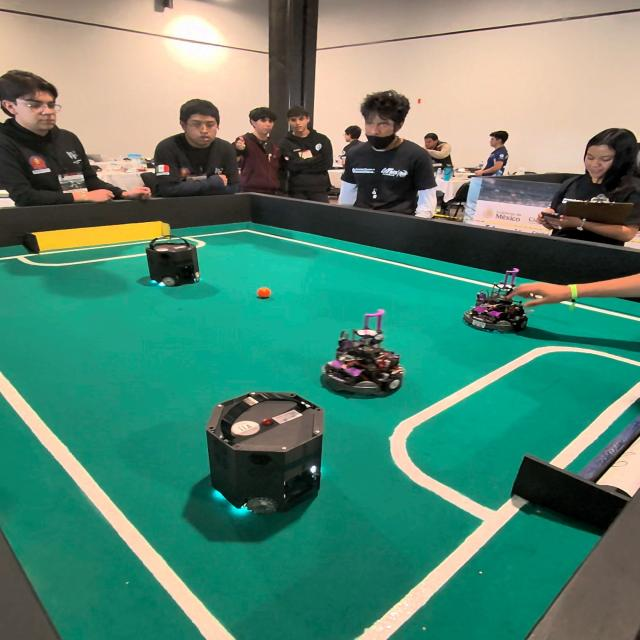Robot: (201, 392, 333, 532), (324, 317, 406, 399), (144, 227, 210, 298), (464, 278, 532, 338)
pelota: (258, 287, 274, 298)
